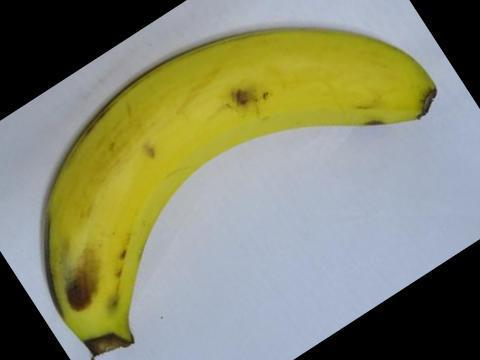freshripe: (29, 15, 444, 359)
